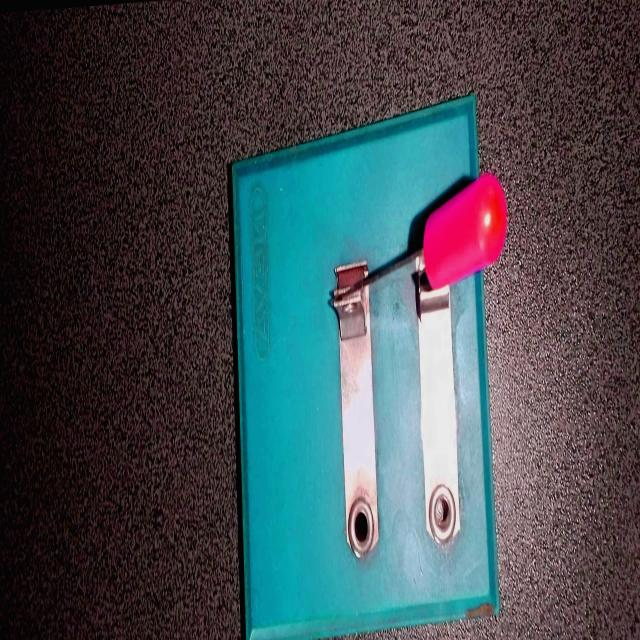L Switch: (210, 72, 526, 640)
